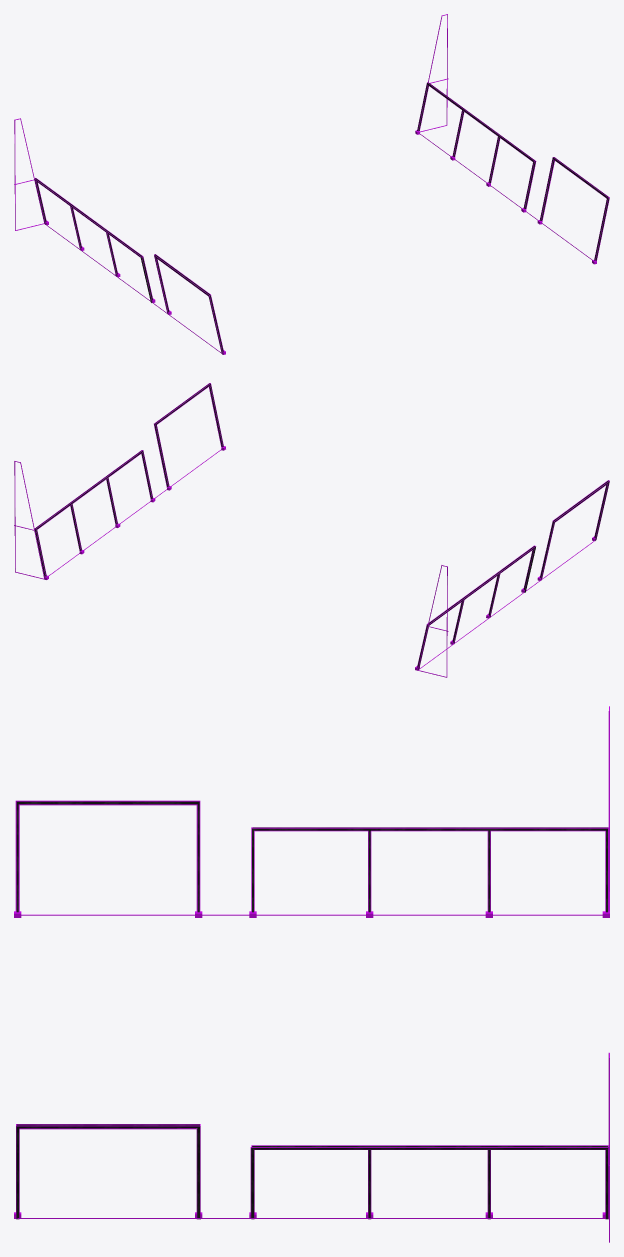
File: FrameV1.fbx
The picture shows the model from 3 angles, top to bottom: view 1: azimuth 30°, elevation 25°; view 2: azimuth 150°, elevation 25°; view 3: azimuth 270°, elevation 25°; orthographic projection. The views are drawn at different scales.
Parts seen in each view (by area): view 1: Cube__20__3; view 2: Cube__20__3; view 3: Cube__20__3.
Boxes of the visible parts, left/top/right/bottom form: Cube__20__3: left=14, top=14, right=609, bottom=354; Cube__20__3: left=14, top=383, right=609, bottom=677; Cube__20__3: left=14, top=706, right=609, bottom=1242.
Size of the model in its own units: 89.94 by 22.15 by 64.27.
Materials: 1 (1 with a texture image).
